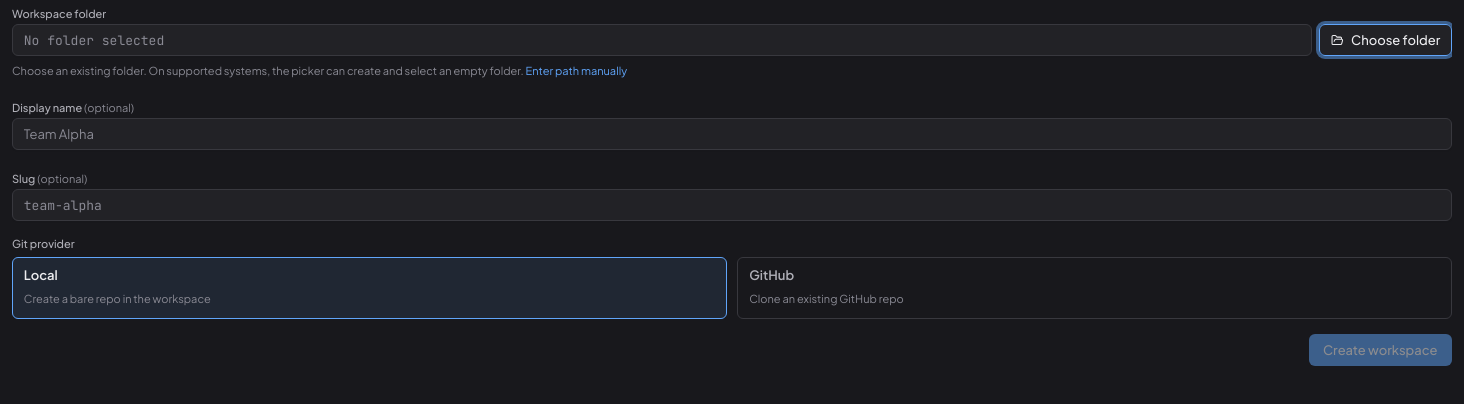
Scenario: CreateWorkspaceForm workspace folder picker › opens the native folder picker and derives the slug from the selected folder
Step 1. Click the button with test id "ws-folder-picker" → (1386, 40), box [1319, 24, 1452, 56]
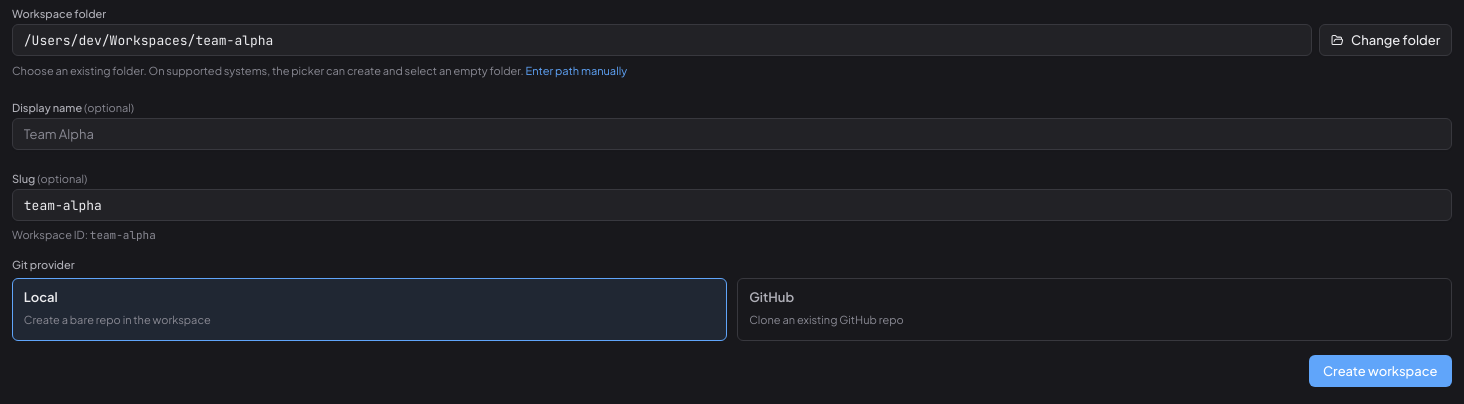
Check: the field with test id "ws-slug" holds "team-alpha", box [12, 189, 1452, 221]
